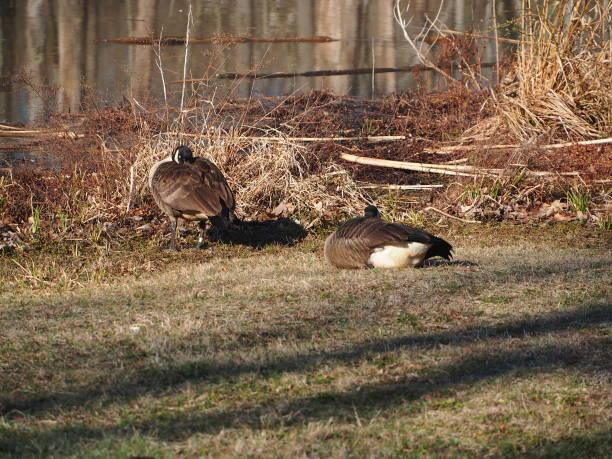Canadian-Goose: (320, 202, 450, 278), (149, 144, 235, 244)
